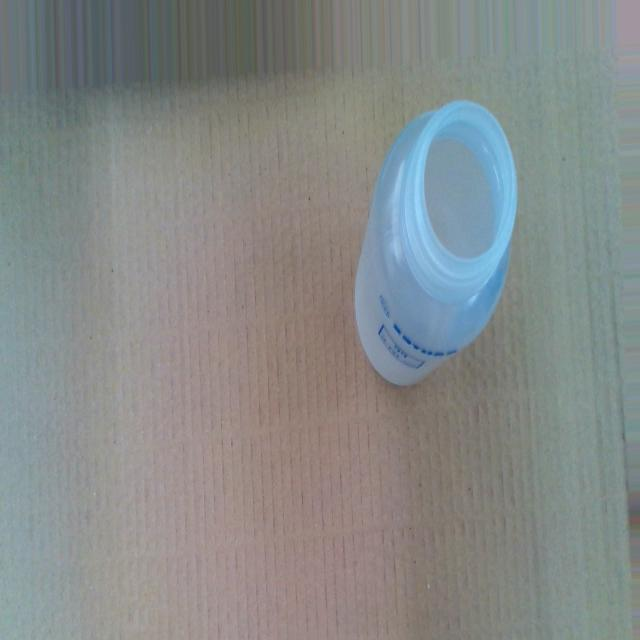bottle: (352, 92, 521, 397)
